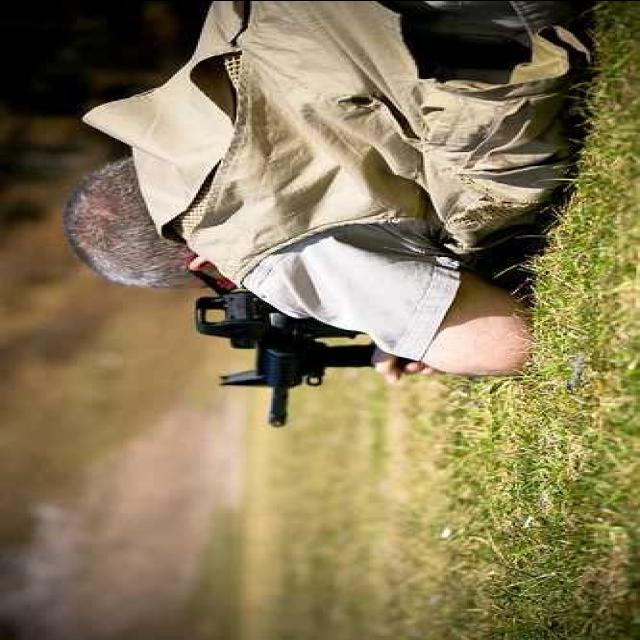heavyweapon: (136, 274, 432, 457)
